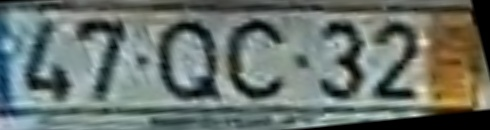2: (370, 18, 424, 102)
3: (316, 18, 371, 103)
4: (20, 18, 80, 104)
7: (70, 16, 134, 106)
C: (224, 16, 291, 102)
Q: (152, 17, 232, 105)
